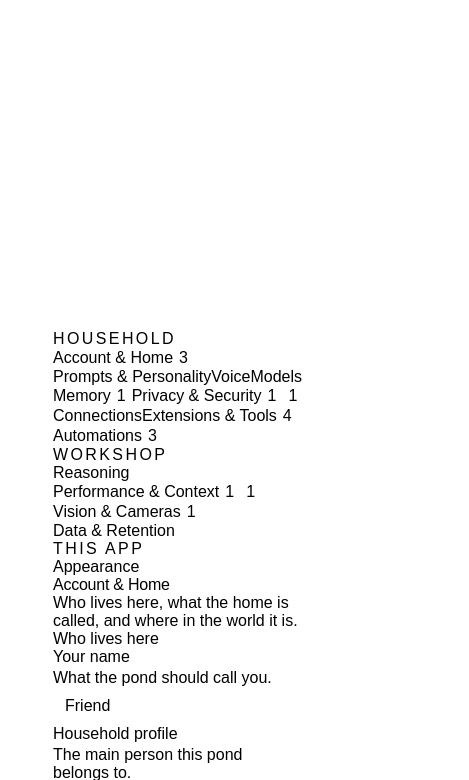
Test: SettingsCatalogue › keeps field names out of sight until asked for
(page scrolled)
Expected: the heading "Who lives here" is shown, [53, 630, 159, 648]
Click the button "Privacy & Security 1 1" at (218, 396), box [132, 386, 303, 406]
(page scrolled)
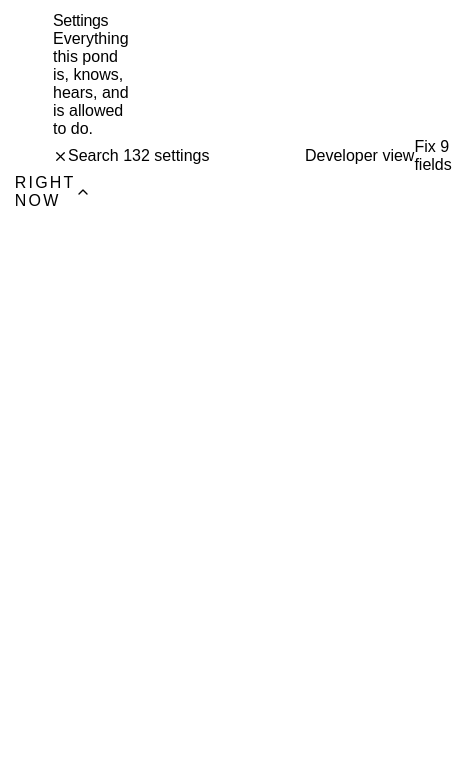
Expected: the text "mic_enabled" is not shown
Click the button "Developer view" at (356, 156), box [298, 147, 414, 165]
(page scrolled)
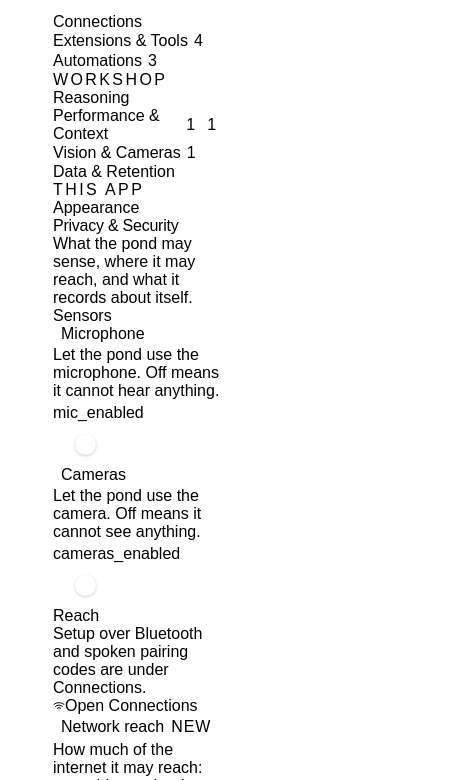
Expected: the element that starts with "Microphone" shows "mic_enabled", [53, 404, 144, 422]
